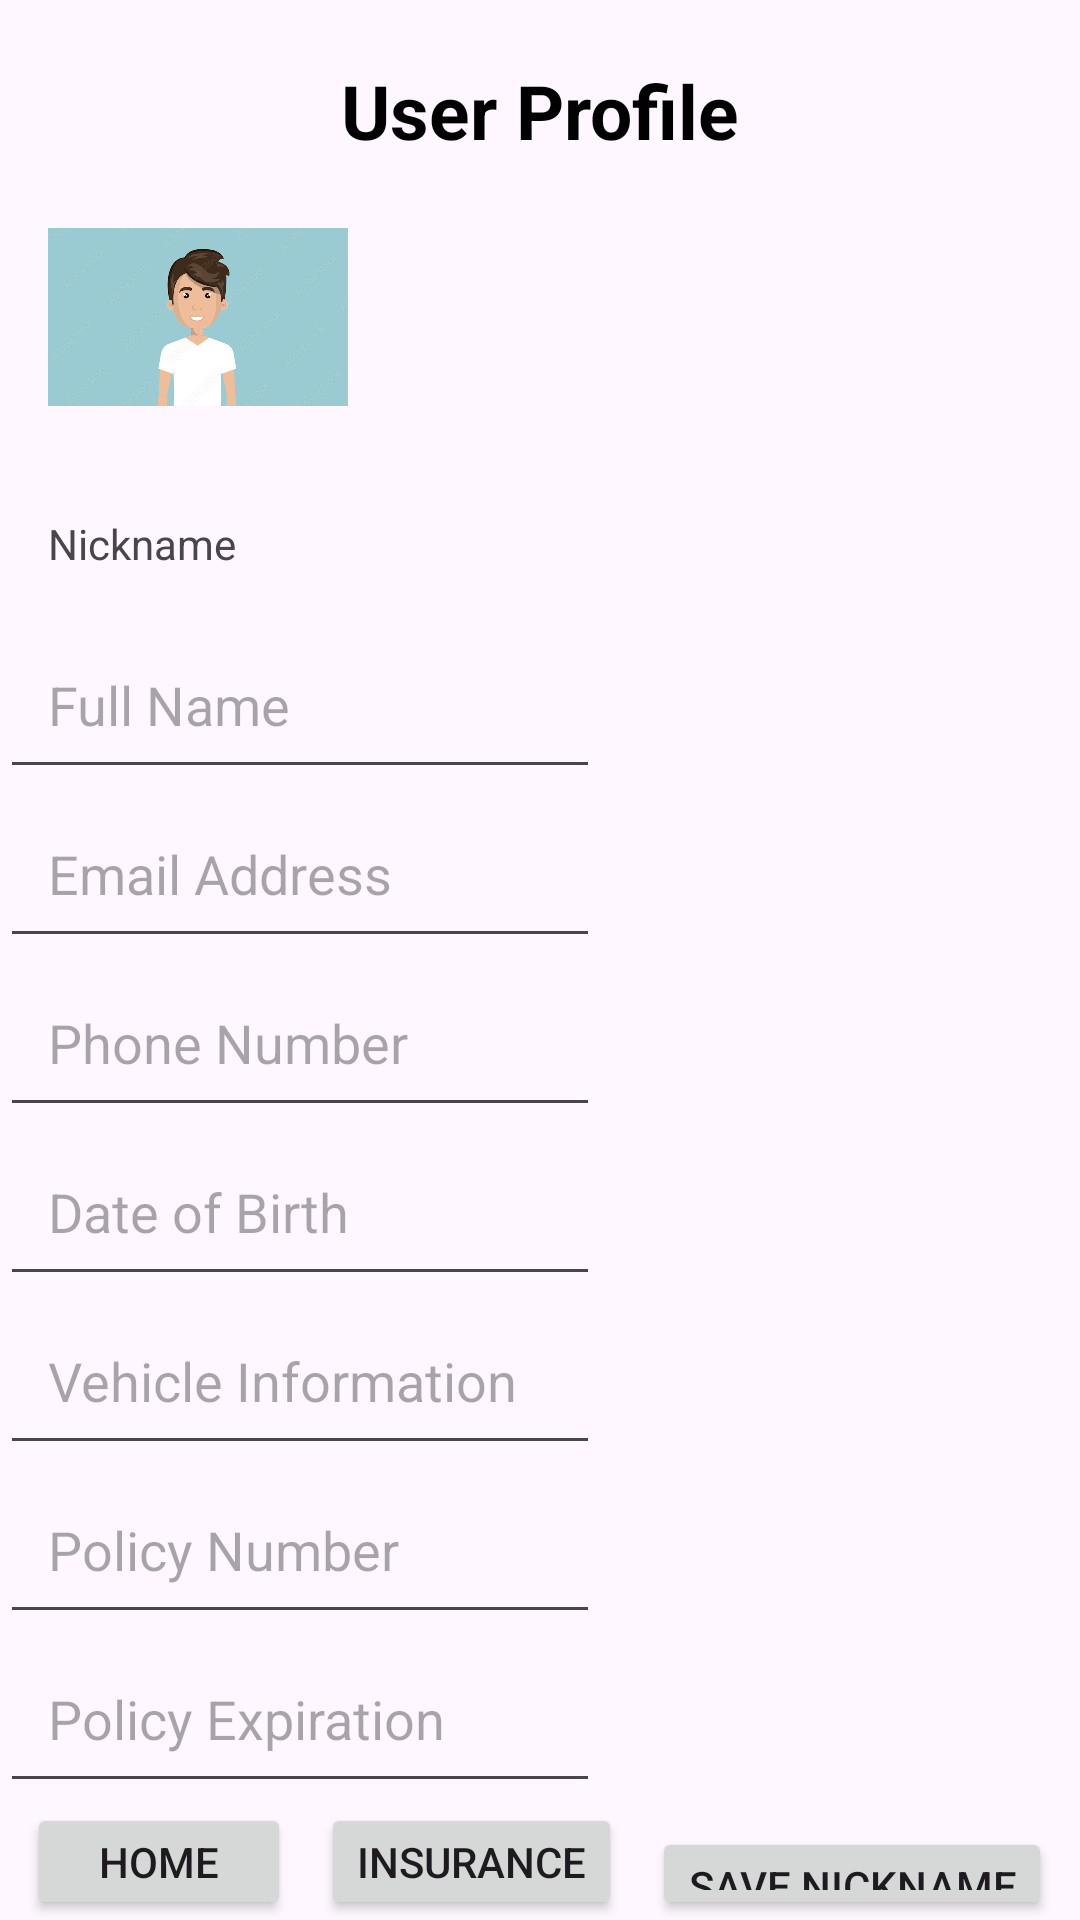

Named icons in this screenshot (1080px×1920px) and their bounding boxes, (x1, y1, x2, y2):
avatars: (48, 228, 348, 406)
